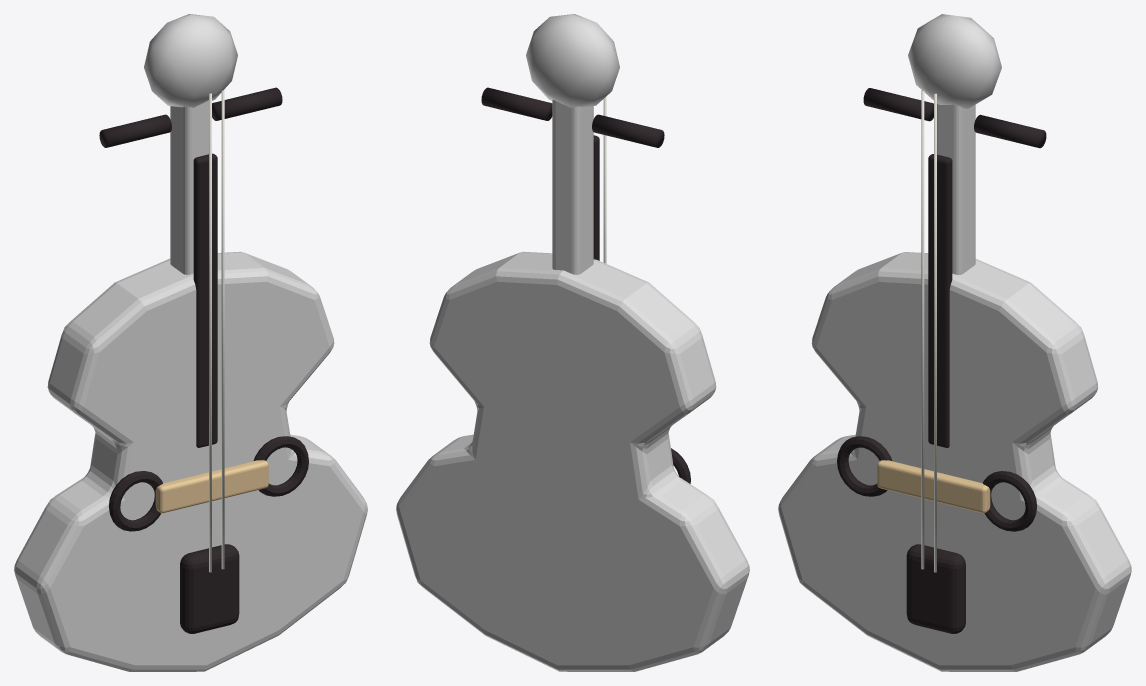
The model's file is horn_sad.glb.
3 renders of one model, left to right at view 1: azimuth 30°, elevation 25°; view 2: azimuth 150°, elevation 25°; view 3: azimuth 330°, elevation 25°, orthographic.
Visible parts, largest first — view 1: Violin Body, Scroll, Fingerboard, Neck, Tailpiece, Bridge, String.001, F Hole, F Hole.001, String, Tuning Peg, Tuning Peg.001; view 2: Violin Body, Neck, Scroll, Tuning Peg, Tuning Peg.001, Fingerboard, String; view 3: Violin Body, Scroll, Fingerboard, Neck, Tailpiece, Bridge, String, F Hole.001, F Hole, String.001, Tuning Peg.001, Tuning Peg.
Boxes of the visible parts, x1=… form: Violin Body: x1=14, y1=251, x2=367, y2=671; Scroll: x1=144, y1=14, x2=237, y2=107; Fingerboard: x1=193, y1=153, x2=217, y2=447; Neck: x1=170, y1=100, x2=208, y2=274; Tailpiece: x1=180, y1=544, x2=239, y2=633; Bridge: x1=155, y1=460, x2=268, y2=513; String.001: x1=221, y1=90, x2=224, y2=569; F Hole: x1=108, y1=471, x2=162, y2=531; F Hole.001: x1=253, y1=436, x2=308, y2=496; String: x1=209, y1=93, x2=211, y2=572; Tuning Peg: x1=99, y1=114, x2=171, y2=147; Tuning Peg.001: x1=212, y1=87, x2=282, y2=120; Violin Body: x1=396, y1=251, x2=749, y2=671; Neck: x1=552, y1=99, x2=593, y2=274; Scroll: x1=526, y1=14, x2=619, y2=107; Tuning Peg: x1=592, y1=114, x2=664, y2=147; Tuning Peg.001: x1=481, y1=87, x2=552, y2=120; Fingerboard: x1=593, y1=135, x2=599, y2=260; String: x1=603, y1=96, x2=606, y2=263; Violin Body: x1=778, y1=252, x2=1131, y2=671; Scroll: x1=908, y1=14, x2=1001, y2=108; Fingerboard: x1=928, y1=154, x2=952, y2=447; Neck: x1=937, y1=103, x2=975, y2=274; Tailpiece: x1=906, y1=544, x2=965, y2=633; Bridge: x1=877, y1=460, x2=990, y2=513; String: x1=921, y1=90, x2=924, y2=569; F Hole.001: x1=983, y1=471, x2=1036, y2=531; F Hole: x1=837, y1=436, x2=892, y2=496; String.001: x1=934, y1=93, x2=936, y2=572; Tuning Peg.001: x1=974, y1=114, x2=1046, y2=148; Tuning Peg: x1=863, y1=88, x2=933, y2=121.
Size of the model in its own units: 2.87 by 5.38 by 0.672.
